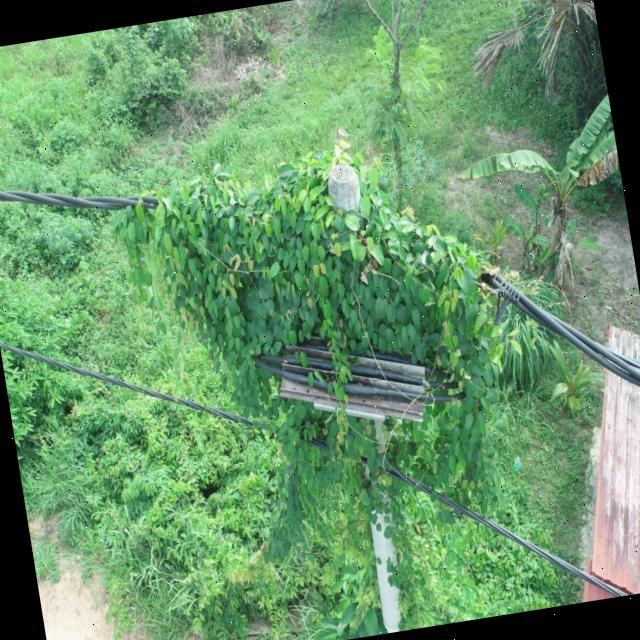critical vegetation: (120, 117, 538, 593)
